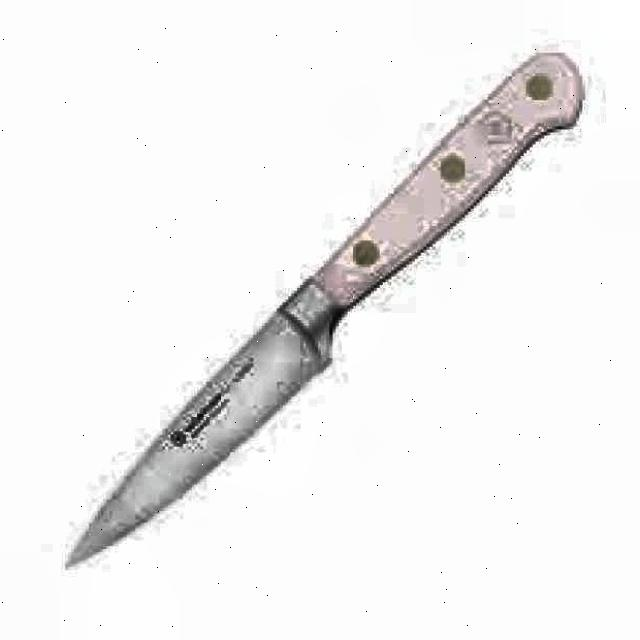knife: (62, 49, 587, 576)
